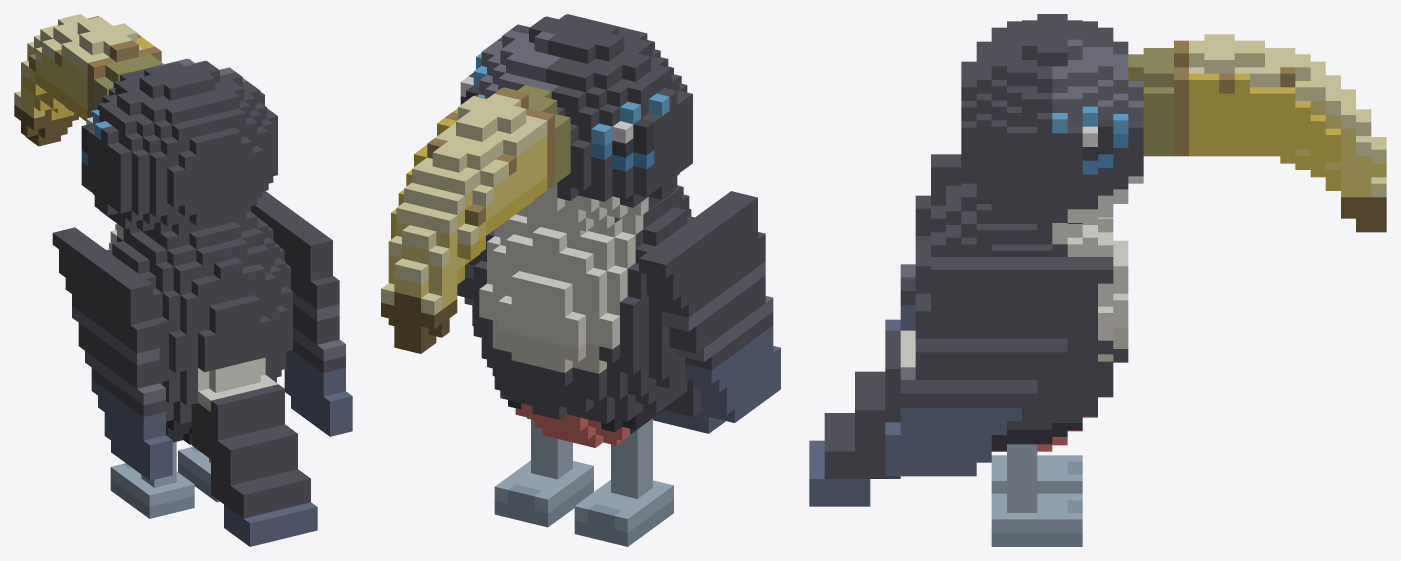
File: TukannoBananno.glb
3 renders of one model, left to right at view 1: azimuth 30°, elevation 25°; view 2: azimuth 150°, elevation 25°; view 3: azimuth 270°, elevation 25°, orthographic. The views are drawn at different scales.
Parts seen in each view (by area): view 1: geometry_0; view 2: geometry_0; view 3: geometry_0.
Part boxes in pixels (x1,y1,x2,y2): geometry_0: [14, 14, 352, 546]; geometry_0: [381, 14, 780, 546]; geometry_0: [809, 14, 1386, 546].
Bounding box in the file's own units: 0.4737 × 0.9211 × 1.
